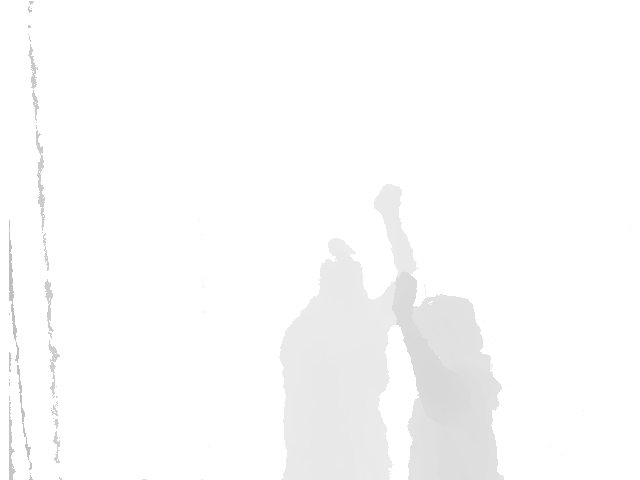hand: (392, 274, 416, 319), (374, 184, 403, 216)
head: (411, 298, 483, 361), (319, 238, 366, 303)
person: (277, 184, 419, 479), (392, 273, 507, 480)
